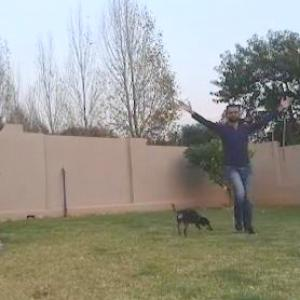takeoff: (170, 101, 284, 229)
